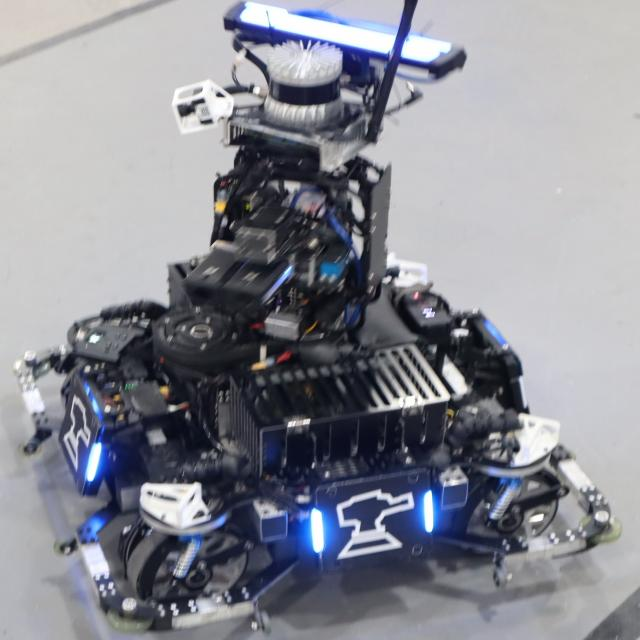Bs: (307, 468, 436, 573), (54, 369, 114, 499)
